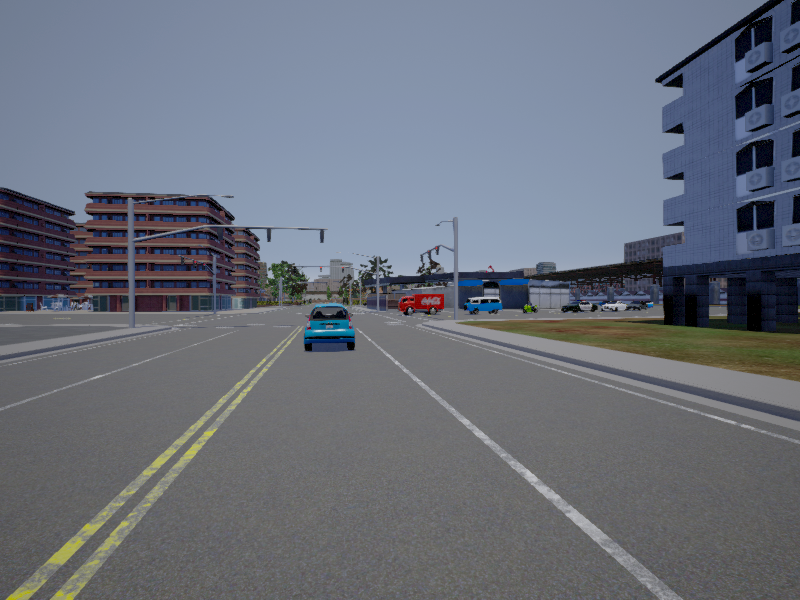Benign: (305, 305, 358, 351), (400, 294, 446, 318), (464, 297, 503, 315), (564, 300, 598, 315), (601, 299, 628, 313)
